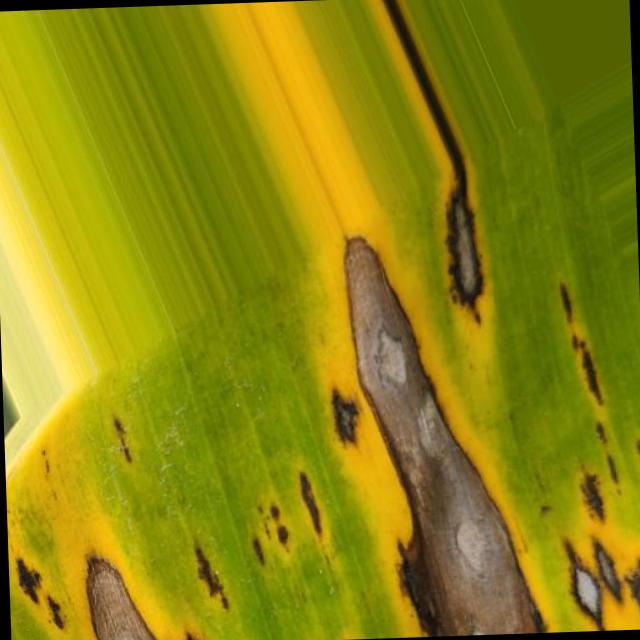Banana_Yellow_Sigatoka: (295, 217, 640, 627), (7, 524, 236, 640)
